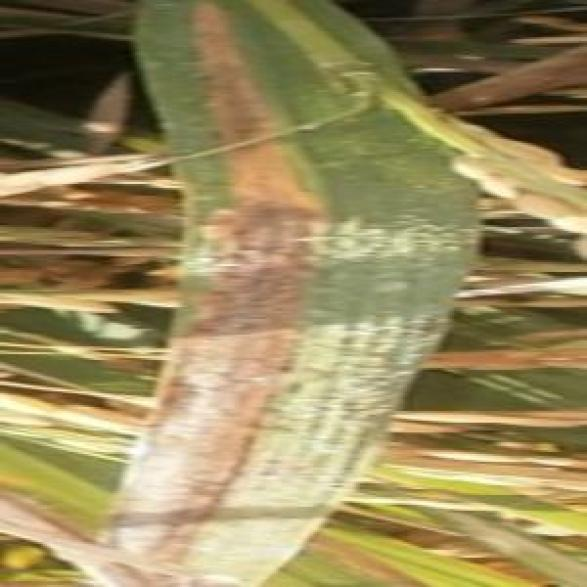Bacteria_Leaf_Blight: (155, 6, 428, 528)
